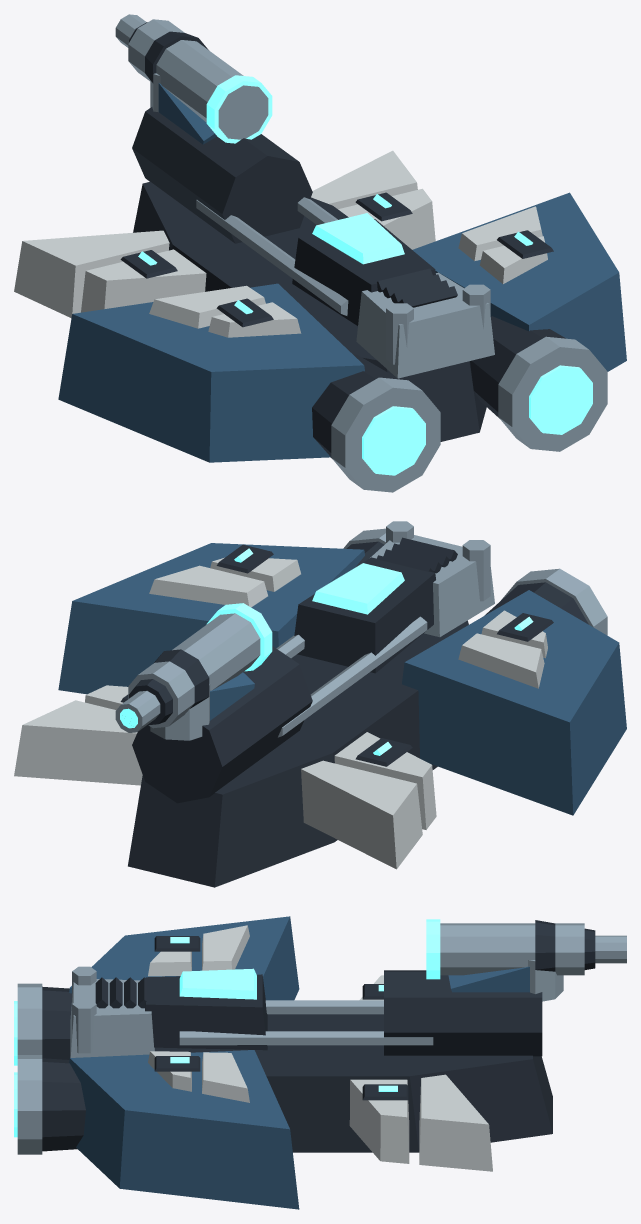
The model's file is c4_skirmisher.glb.
3 renders of one model, top to bottom at view 1: azimuth 30°, elevation 25°; view 2: azimuth 150°, elevation 25°; view 3: azimuth 270°, elevation 25°, orthographic. The views are drawn at different scales.
Visible parts, largest first — view 1: c4_skirmisher / Armor, c4_skirmisher / Chassis, c4_skirmisher / Titanium, c4_skirmisher / Identification, c4_skirmisher / Energy; view 2: c4_skirmisher / Chassis, c4_skirmisher / Armor, c4_skirmisher / Identification, c4_skirmisher / Titanium, c4_skirmisher / Energy; view 3: c4_skirmisher / Chassis, c4_skirmisher / Armor, c4_skirmisher / Titanium, c4_skirmisher / Identification, c4_skirmisher / Energy.
Boxes of the visible parts, x1=… form: c4_skirmisher / Armor: x1=58, y1=83, x2=626, y2=462; c4_skirmisher / Chassis: x1=120, y1=22, x2=565, y2=458; c4_skirmisher / Titanium: x1=115, y1=14, x2=607, y2=492; c4_skirmisher / Identification: x1=14, y1=150, x2=547, y2=337; c4_skirmisher / Energy: x1=138, y1=75, x2=592, y2=475; c4_skirmisher / Chassis: x1=120, y1=537, x2=588, y2=887; c4_skirmisher / Armor: x1=58, y1=543, x2=626, y2=815; c4_skirmisher / Identification: x1=14, y1=557, x2=547, y2=869; c4_skirmisher / Titanium: x1=115, y1=521, x2=607, y2=740; c4_skirmisher / Energy: x1=120, y1=548, x2=533, y2=755; c4_skirmisher / Chassis: x1=42, y1=920, x2=595, y2=1152; c4_skirmisher / Armor: x1=69, y1=916, x2=529, y2=1209; c4_skirmisher / Titanium: x1=17, y1=923, x2=626, y2=1154; c4_skirmisher / Identification: x1=148, y1=925, x2=492, y2=1171; c4_skirmisher / Energy: x1=14, y1=919, x2=440, y2=1137.
Size of the model in its own units: 1.48 by 0.607 by 1.74.
